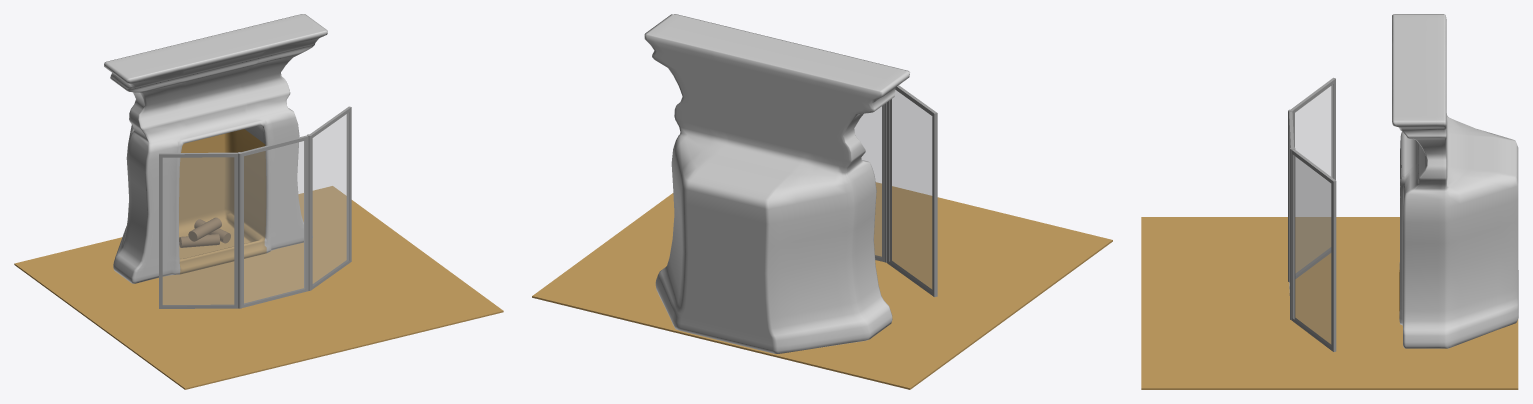
File: Fireplace.fbx
The picture shows the model from 3 angles, left to right: view 1: azimuth 30°, elevation 25°; view 2: azimuth 150°, elevation 25°; view 3: azimuth 270°, elevation 25°; orthographic projection. The views are drawn at different scales.
Visible parts, largest first — view 1: Fireplace_Brick_Floor, Fireplace, Fireplace_Guard6, Fireplace_Log4; view 2: Fireplace, Fireplace_Brick_Floor, Fireplace_Guard6; view 3: Fireplace_Brick_Floor, Fireplace, Fireplace_Guard6.
Part boxes in pixels (x1=…): Fireplace_Brick_Floor: x1=14, y1=186, x2=503, y2=389; Fireplace: x1=104, y1=14, x2=327, y2=283; Fireplace_Guard6: x1=159, y1=106, x2=351, y2=308; Fireplace_Log4: x1=179, y1=217, x2=230, y2=247; Fireplace: x1=644, y1=14, x2=909, y2=353; Fireplace_Brick_Floor: x1=532, y1=182, x2=1112, y2=389; Fireplace_Guard6: x1=854, y1=85, x2=937, y2=297; Fireplace_Brick_Floor: x1=1141, y1=217, x2=1518, y2=389; Fireplace: x1=1392, y1=14, x2=1518, y2=348; Fireplace_Guard6: x1=1288, y1=77, x2=1336, y2=351.
Bounding box in the file's own units: 209 × 134 × 194.
